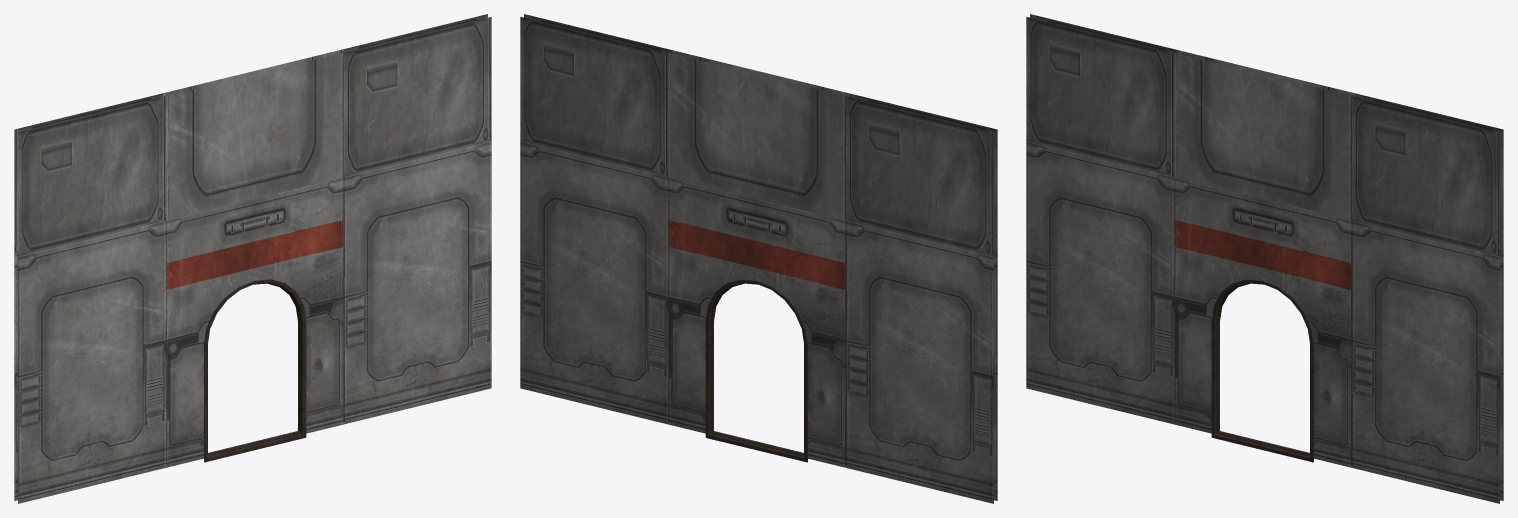
The model's file is tau_8sided_room_infirmary_partitionwall.dae.
3 views of the same model, side by side, from view 1: azimuth 30°, elevation 25°; view 2: azimuth 150°, elevation 25°; view 3: azimuth 330°, elevation 25° (orthographic).
Parts seen in each view (by area): view 1: polySurface467, polySurface466; view 2: polySurface467, polySurface466; view 3: polySurface467, polySurface466.
Boxes of the visible parts, <box> form: polySurface467: <box>14,14,491,503</box>; polySurface466: <box>204,279,306,462</box>; polySurface467: <box>520,14,997,503</box>; polySurface466: <box>705,279,807,462</box>; polySurface467: <box>1026,14,1503,503</box>; polySurface466: <box>1211,279,1313,462</box>.
Size of the model in its own units: 8 by 6.06 by 0.1443.
